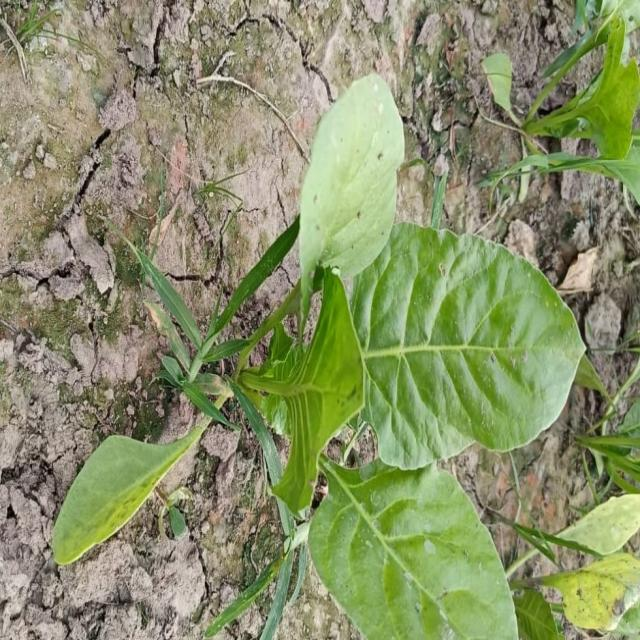plant: (135, 73, 584, 637), (54, 417, 210, 564)
